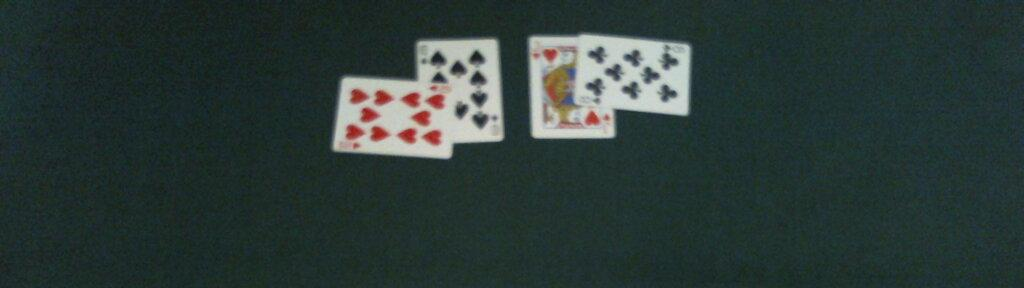eight: (572, 33, 691, 118)
jack: (528, 34, 618, 140)
ten: (331, 73, 455, 161), (413, 38, 504, 143)
